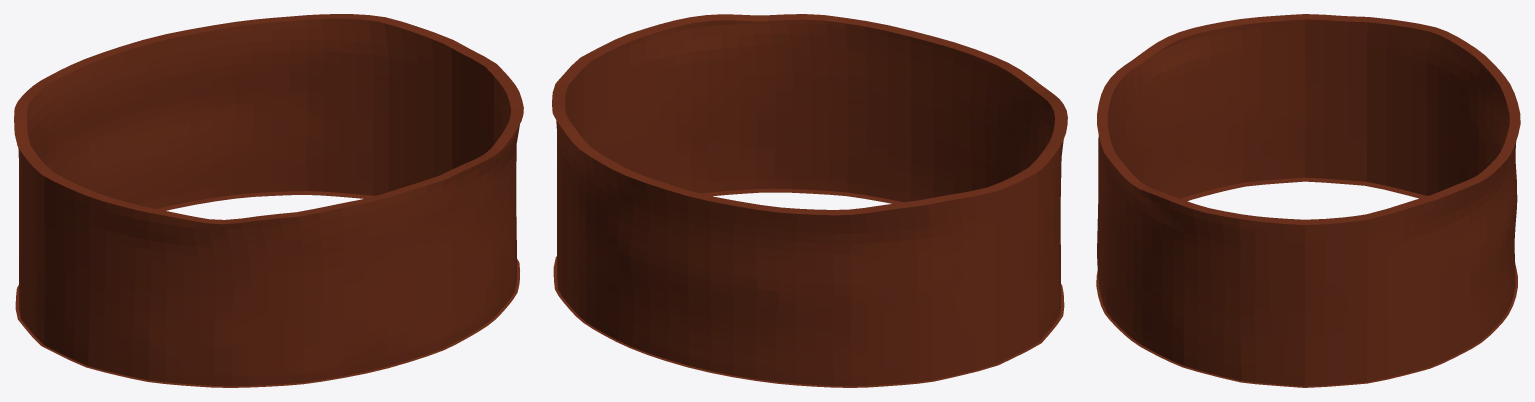
The model's file is Ceinture de merde.fbx.
The picture shows the model from 3 angles, left to right: view 1: azimuth 30°, elevation 25°; view 2: azimuth 150°, elevation 25°; view 3: azimuth 270°, elevation 25°; orthographic projection. The views are drawn at different scales.
Visible parts, largest first — view 1: Ceinture centre Rozenn; view 2: Ceinture centre Rozenn; view 3: Ceinture centre Rozenn.
Boxes of the visible parts, box(x1,y1,x2,y2) form: Ceinture centre Rozenn: box(14, 14, 523, 387); Ceinture centre Rozenn: box(552, 14, 1067, 387); Ceinture centre Rozenn: box(1096, 14, 1520, 387).
Bounding box in the file's own units: 210 × 77.9 × 178.
